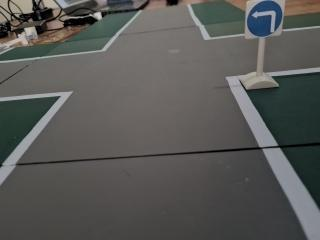left: (241, 0, 289, 41)
